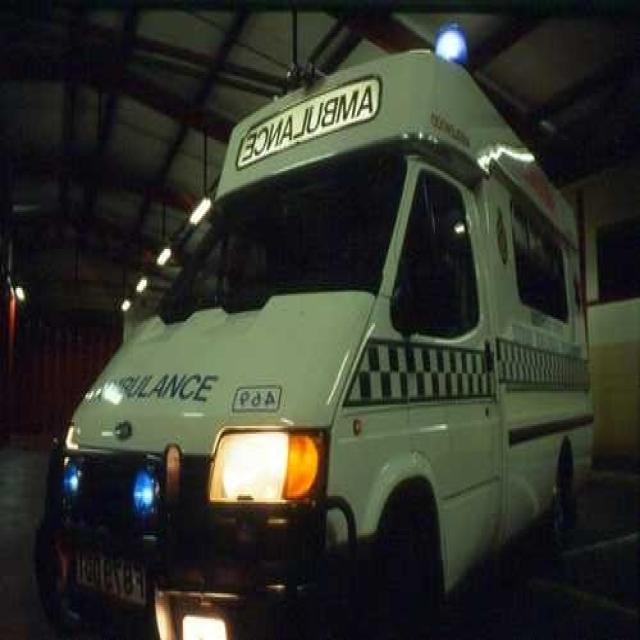ambulance: (15, 16, 609, 640)
